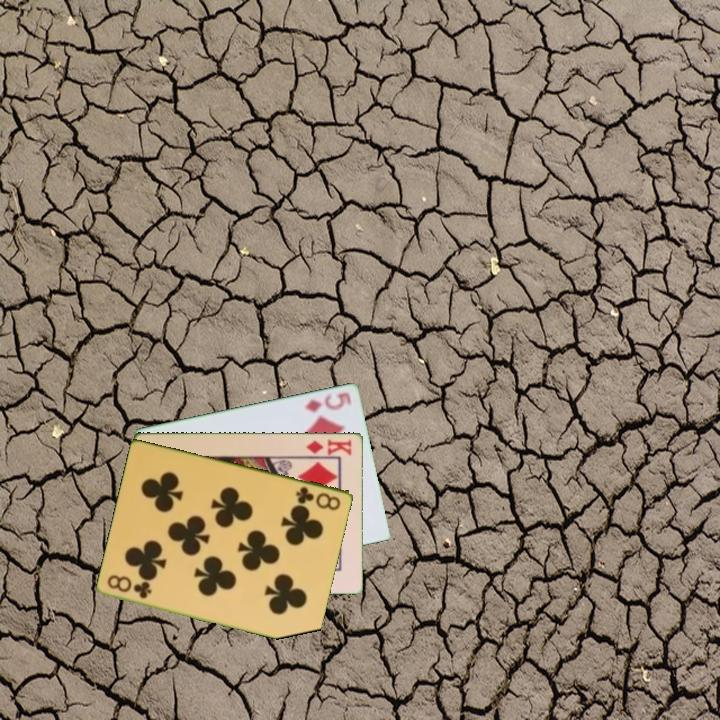5d: (301, 388, 354, 415)
8c: (293, 483, 344, 513), (104, 572, 155, 601)
Kd: (303, 435, 354, 458)
